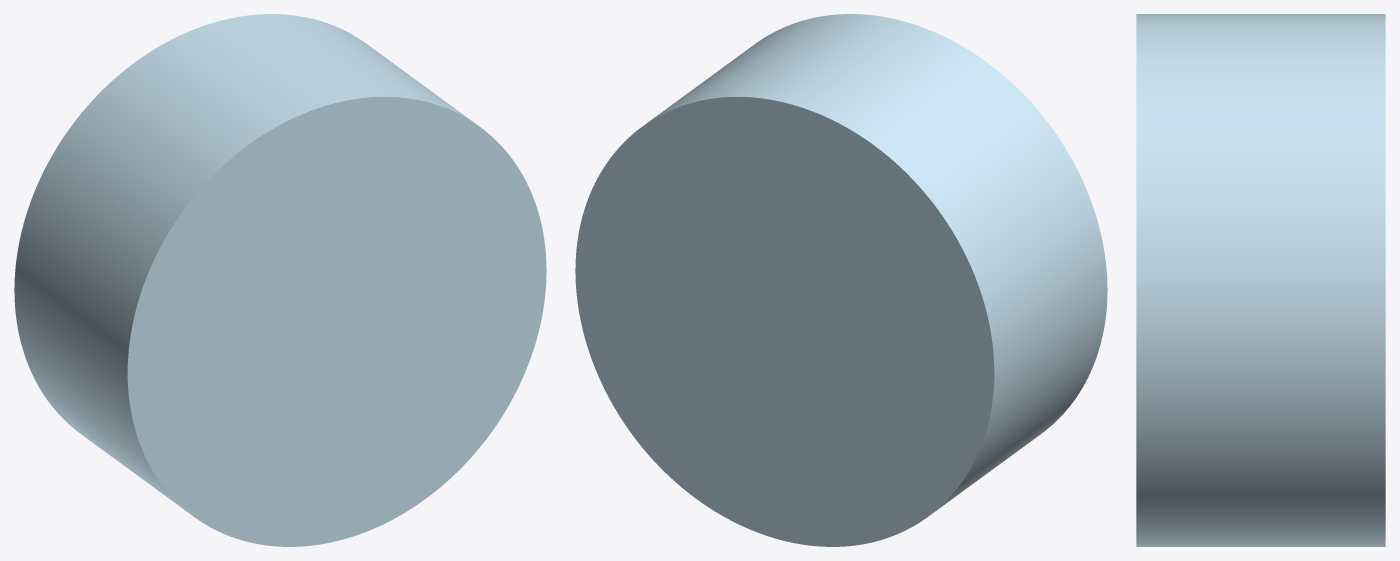
The model's file is studio1.gltf.
3 renders of one model, left to right at view 1: azimuth 30°, elevation 25°; view 2: azimuth 150°, elevation 25°; view 3: azimuth 270°, elevation 25°, orthographic. The views are drawn at different scales.
Visible parts, largest first — view 1: Part 1; view 2: Part 1; view 3: Part 1.
Boxes of the visible parts, x1=… form: Part 1: x1=14, y1=14, x2=546, y2=546; Part 1: x1=575, y1=14, x2=1107, y2=546; Part 1: x1=1136, y1=14, x2=1385, y2=546.
Size of the model in its own units: 0.0833 by 0.0833 by 0.039.
